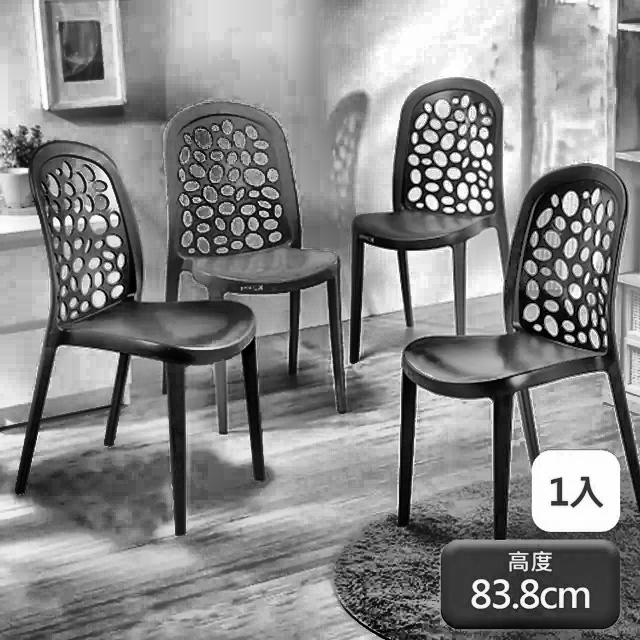cadeira: (14, 135, 269, 542), (392, 158, 639, 538), (156, 93, 352, 434), (336, 69, 516, 365)
